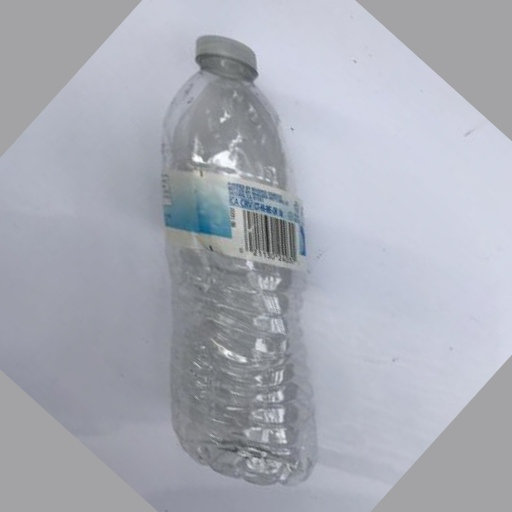Plastic_0: (157, 32, 314, 491)
